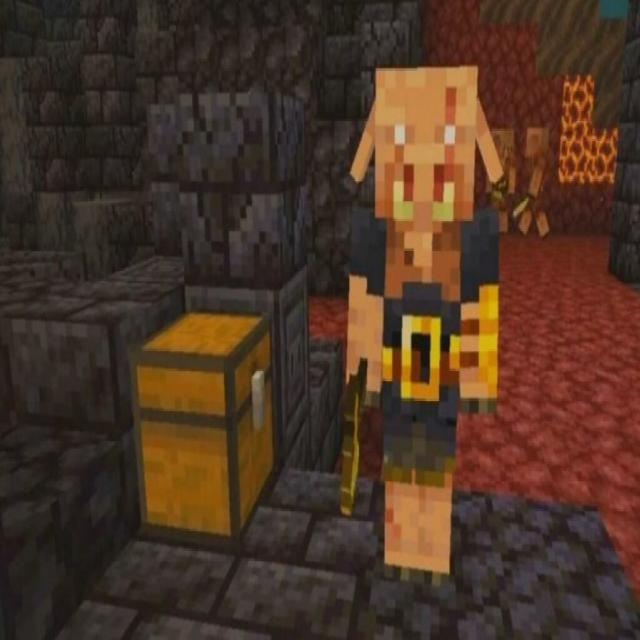Piglin: (339, 64, 503, 576), (512, 121, 553, 245), (483, 123, 518, 237)
